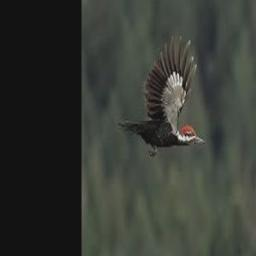Woodpecker: (117, 35, 205, 157)
